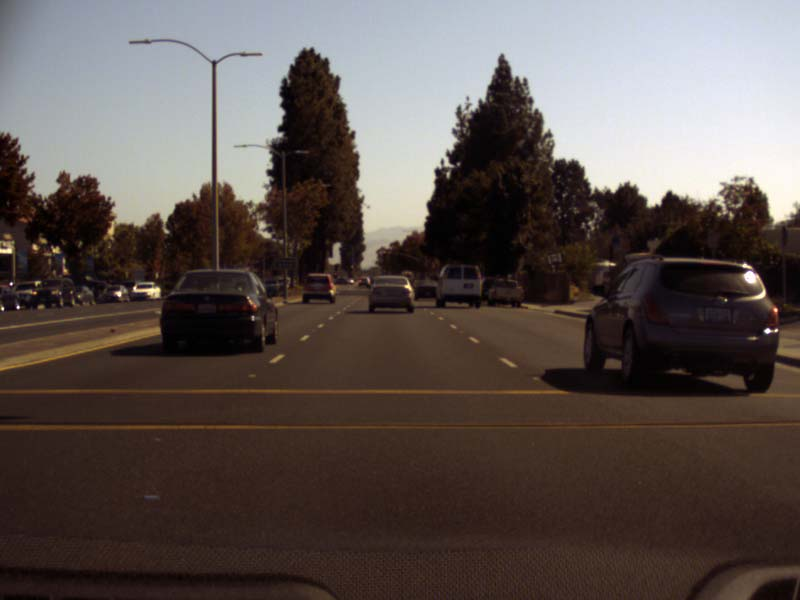Yellow: (350, 264, 354, 270)
